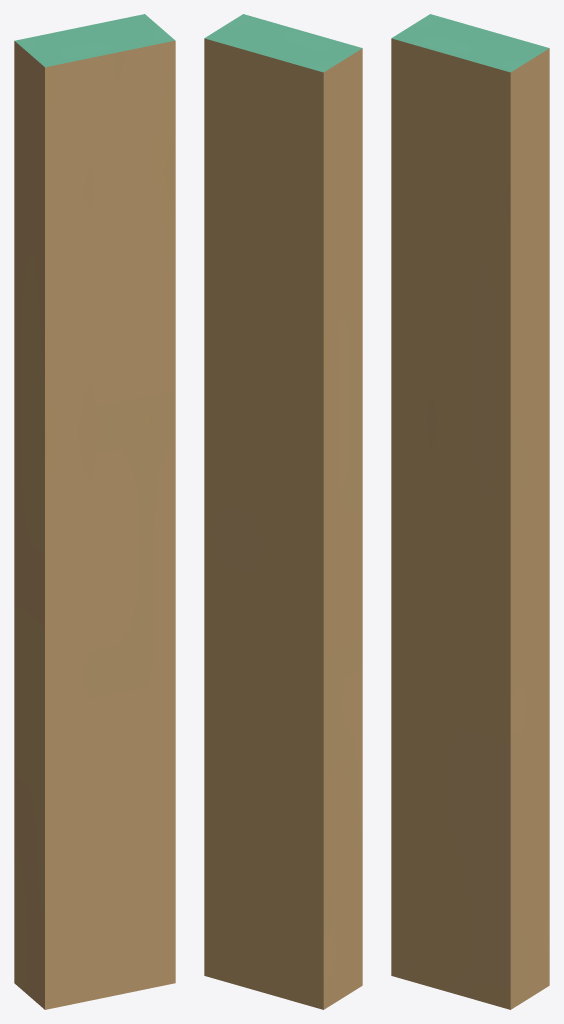
File: Blocks-158.fbx
3 views of the same model, side by side, from view 1: azimuth 30°, elevation 25°; view 2: azimuth 150°, elevation 25°; view 3: azimuth 330°, elevation 25° (orthographic).
Parts seen in each view (by area): view 1: Blocks-158; view 2: Blocks-158; view 3: Blocks-158.
Boxes of the visible parts, x1=… form: Blocks-158: x1=14, y1=14, x2=175, y2=1009; Blocks-158: x1=204, y1=14, x2=362, y2=1009; Blocks-158: x1=391, y1=14, x2=549, y2=1009.
Bounding box in the file's own units: 4541 × 31564 × 2433.
